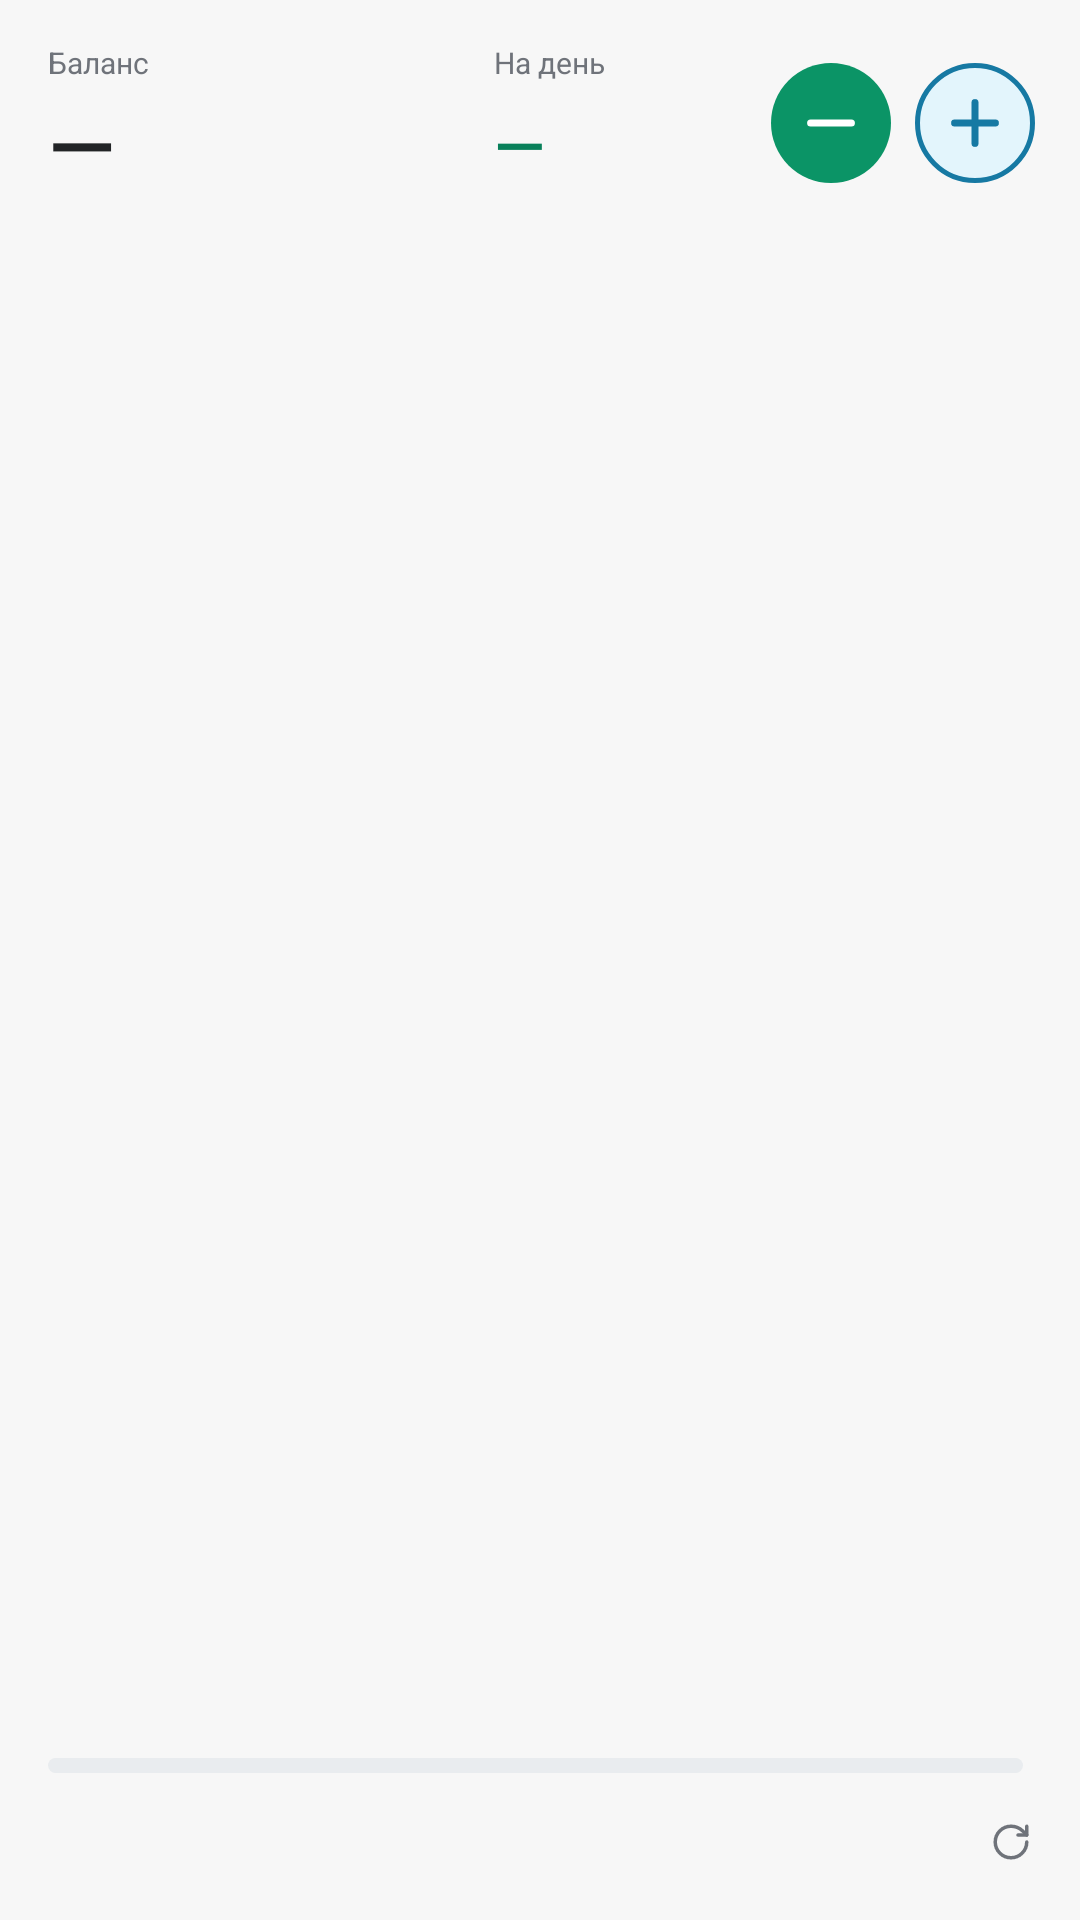

Named icons in this screenshot (1080px x 1920px) and their centers, (x=x, y=y):
Витрата: (x=831, y=123)
Дохід: (x=975, y=123)
Оновити: (x=1011, y=1842)
